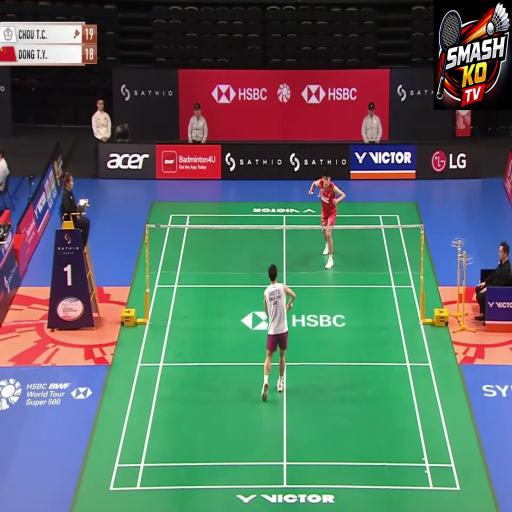player: (233, 250, 310, 405), (300, 145, 347, 268)
